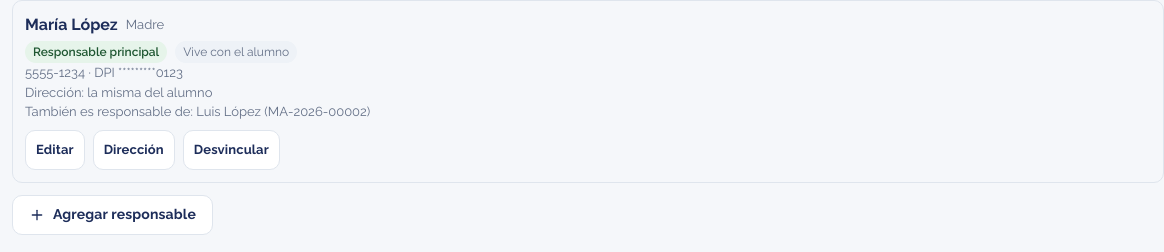
Test: panel de padres, madres y tutores › desvincula sin borrar y oculta las acciones sin permiso de escritura
The image size is (1164, 252).
Click the button with aria-label "Desvincular a María López": (231,150) [183,130,280,170]
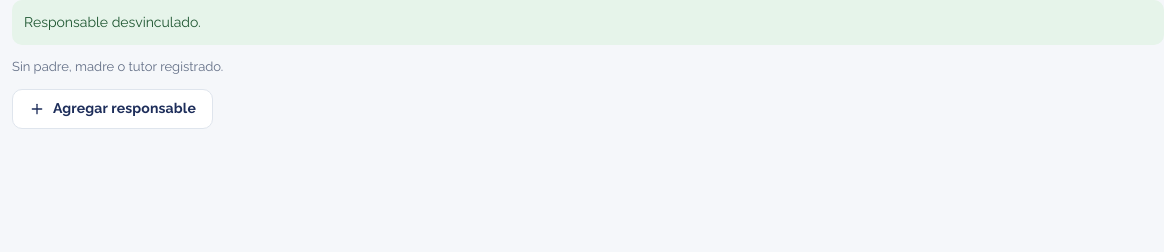
Result: the text "Responsable desvinculado." is shown at [12,0,1163,45]
